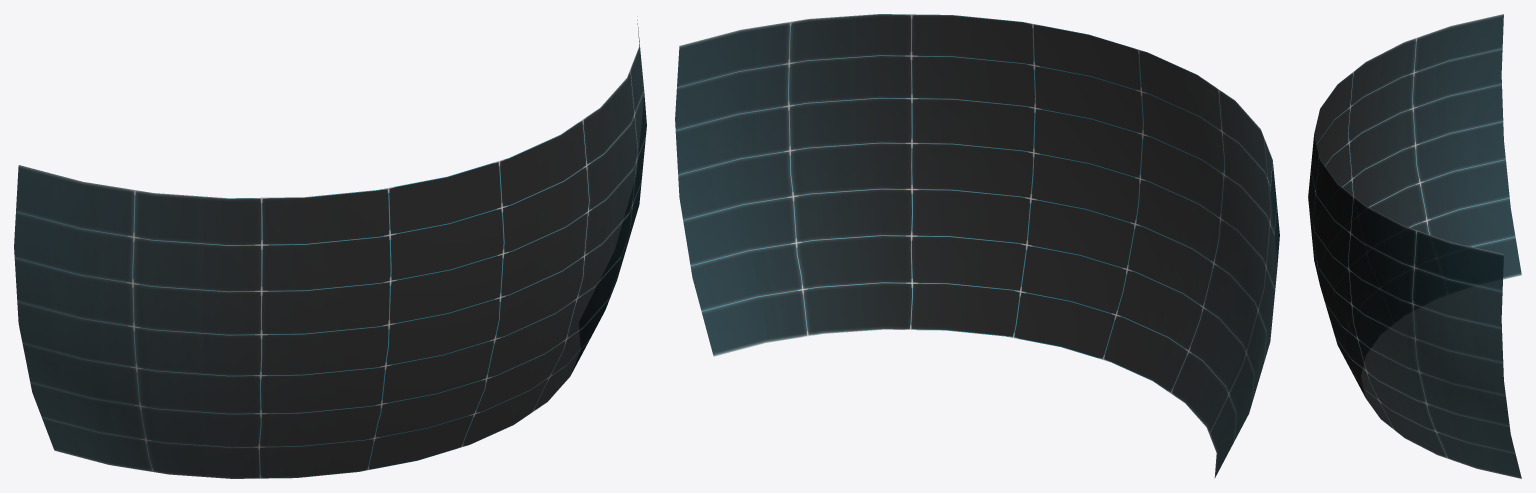
3 views of the same model, side by side, from view 1: azimuth 30°, elevation 25°; view 2: azimuth 150°, elevation 25°; view 3: azimuth 270°, elevation 25° (orthographic). The views are drawn at different scales.
Parts seen in each view (by area): view 1: Sphere; view 2: Sphere; view 3: Sphere.
Part boxes in pixels (bbox=[...]): Sphere: bbox=[14, 16, 646, 478]; Sphere: bbox=[675, 14, 1279, 478]; Sphere: bbox=[1308, 14, 1521, 478].
Bounding box in the file's own units: 1.85 × 0.8557 × 0.6818.
Materials: 1 (1 with a texture image).
